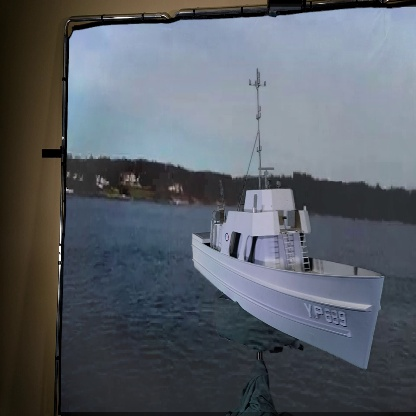YP689: (191, 68, 386, 373)
